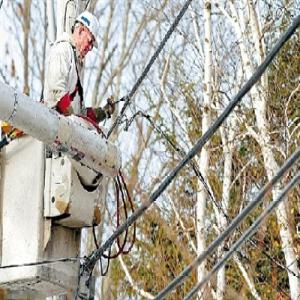white: (72, 9, 102, 58)
